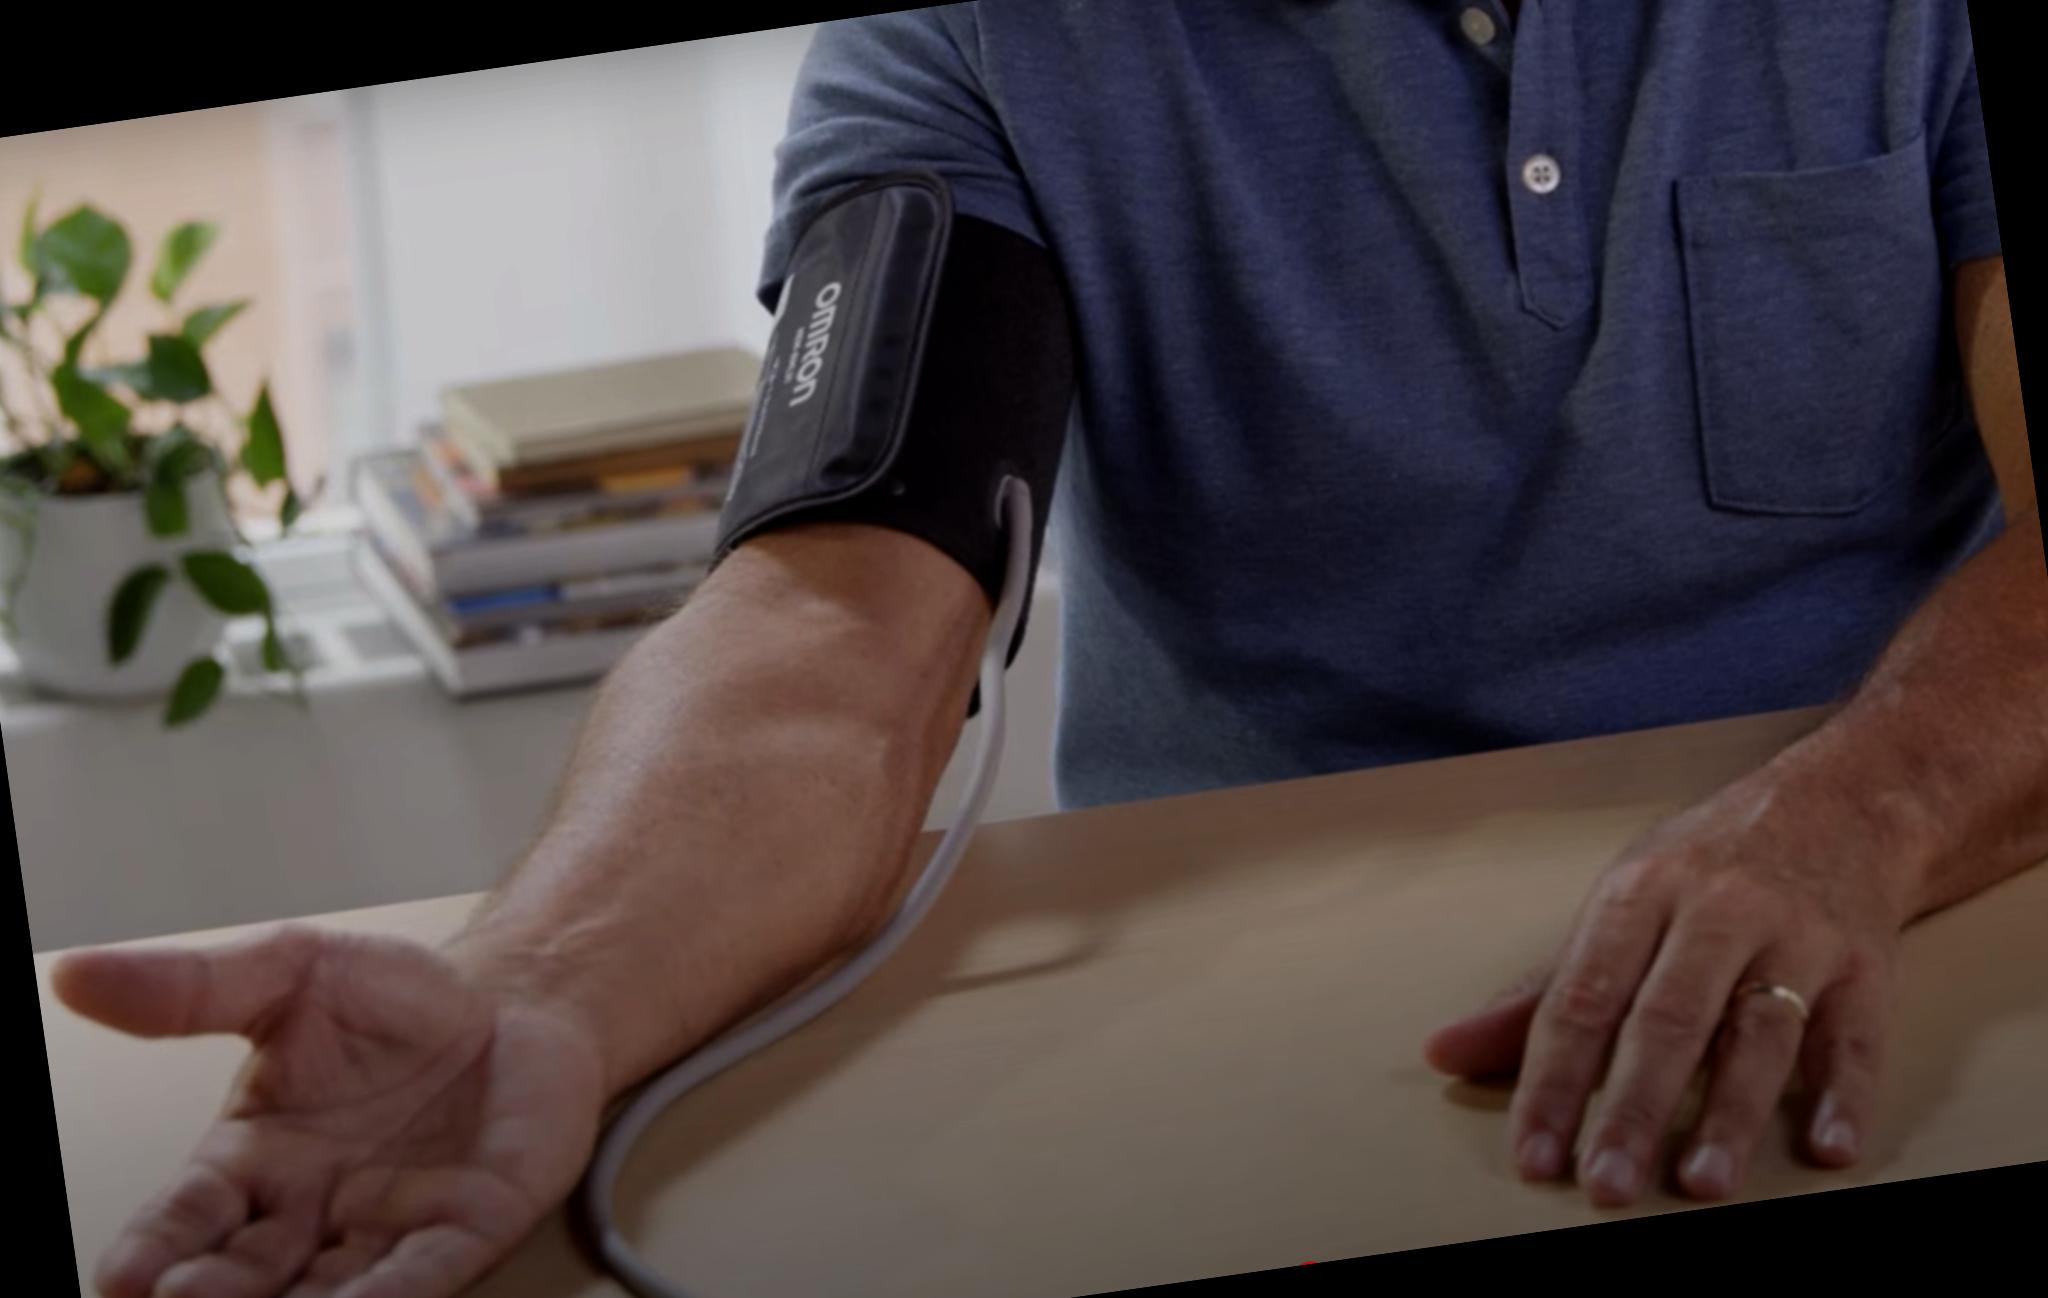cuff: (706, 197, 1081, 600)
